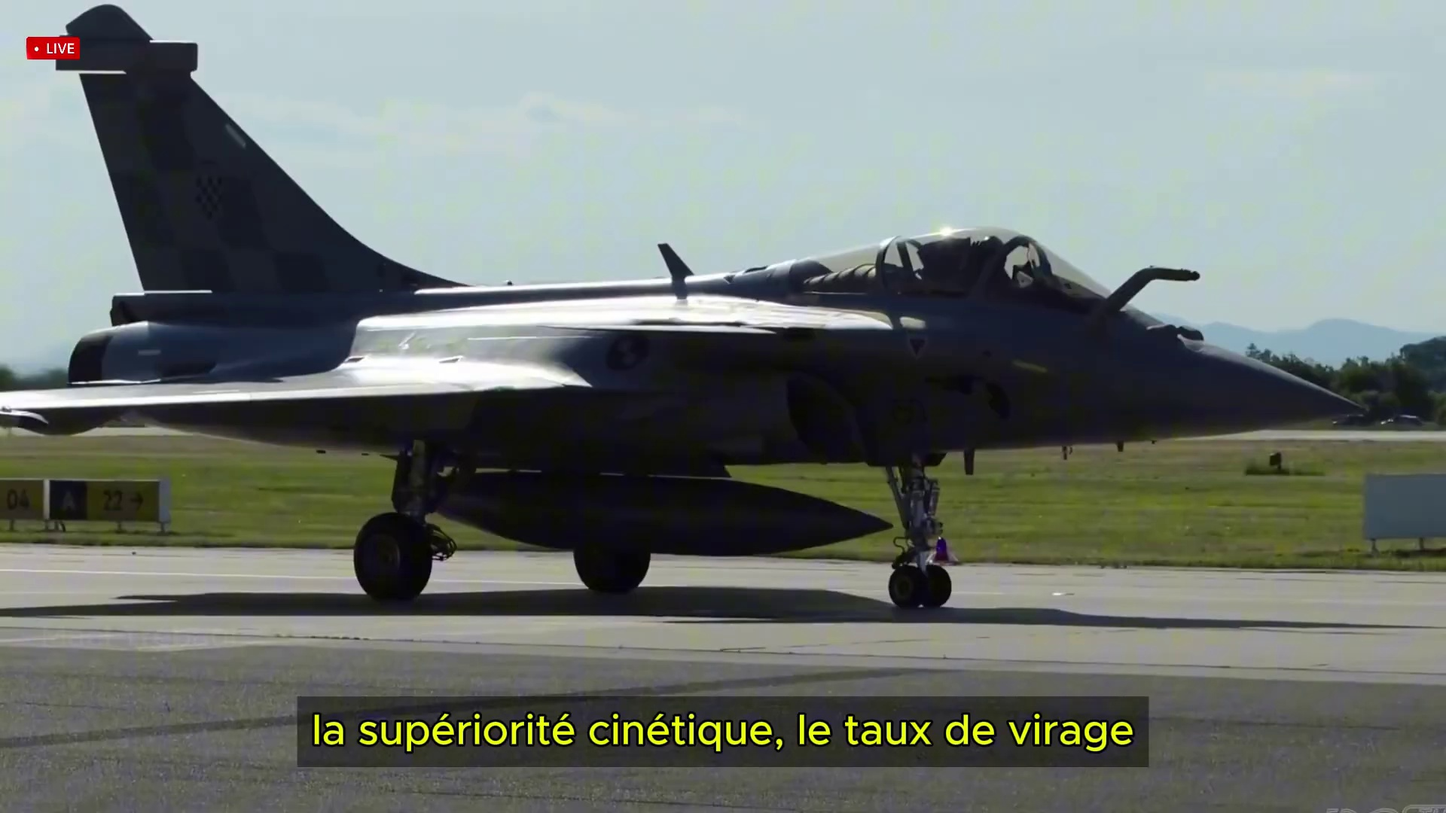Rafale: (0, 7, 1377, 619)
